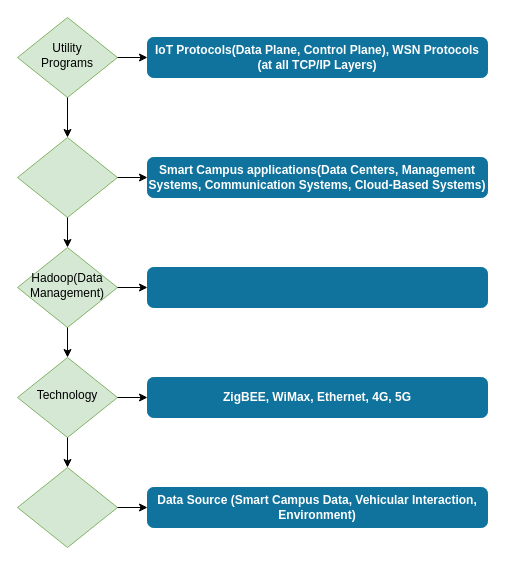
This 505x565 diagram has some shape labels left out. The shapes that lost their labels are listed below. From the top down, each one's centre as x and y in pixels, then its label:
[67,177]: Application
[317,287]: MapReduce, SQL, HBASE(Analysis, Storage, Filtering, Processing)
[67,507]: Data Generation
